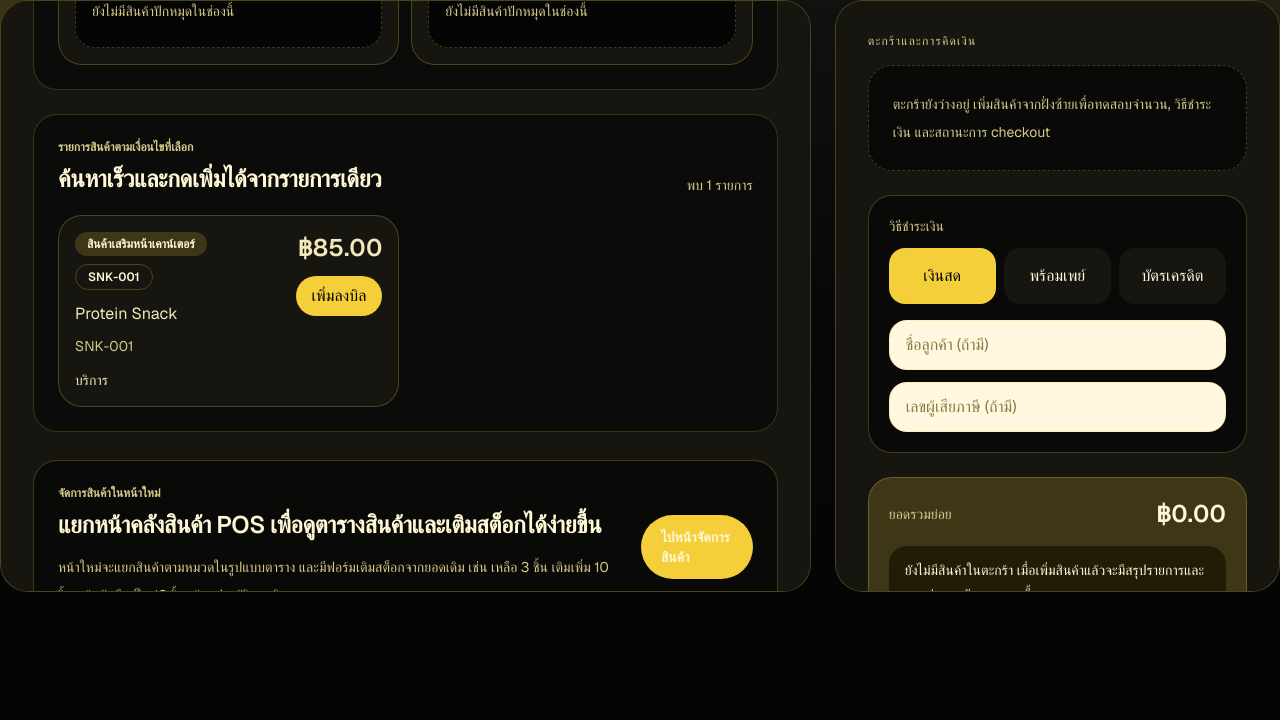
POS checkout refresh warning › keeps checkout success visible when post-checkout refresh fails
The image size is (1280, 720).
(page scrolled)
What coordinates should you click on to do the following:
click the button "เพิ่มลงบิล"
I would click on:
 (339, 296)
Its box is [296, 276, 382, 316].
(page scrolled)
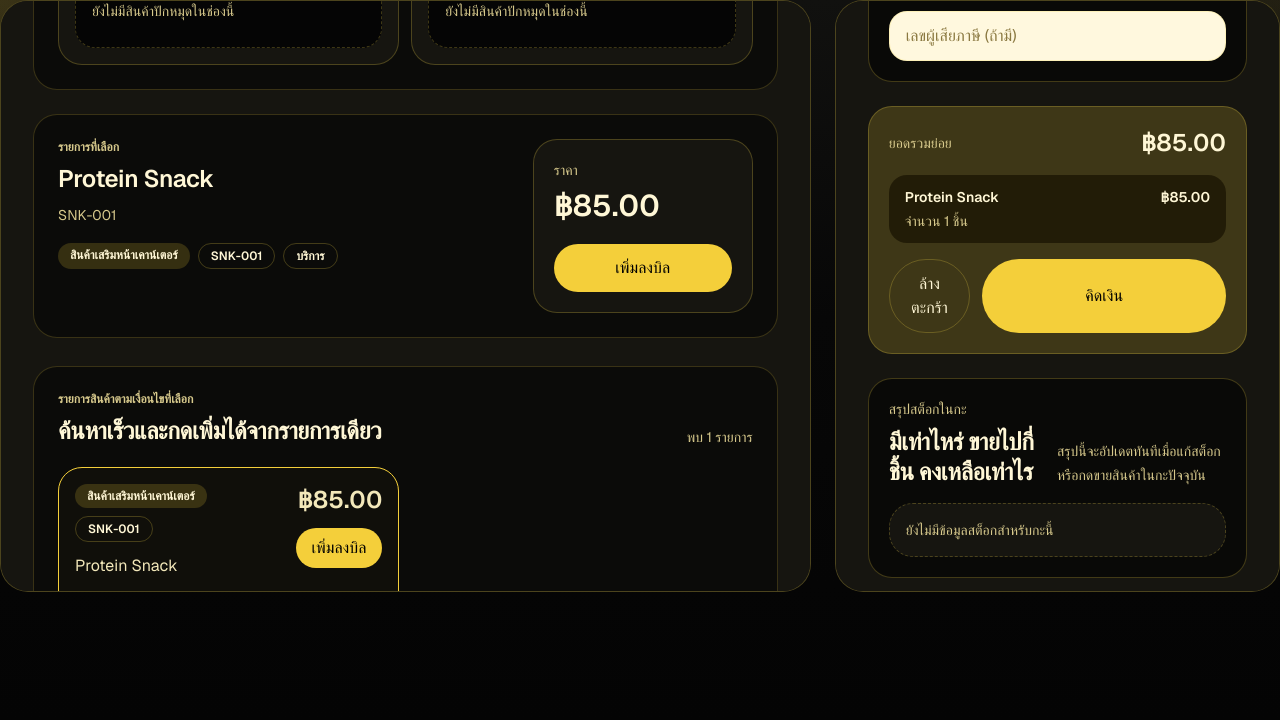
What coordinates should you click on to do the following:
click the button "คิดเงิน"
I would click on:
 (1104, 296)
Its box is [982, 259, 1226, 333].
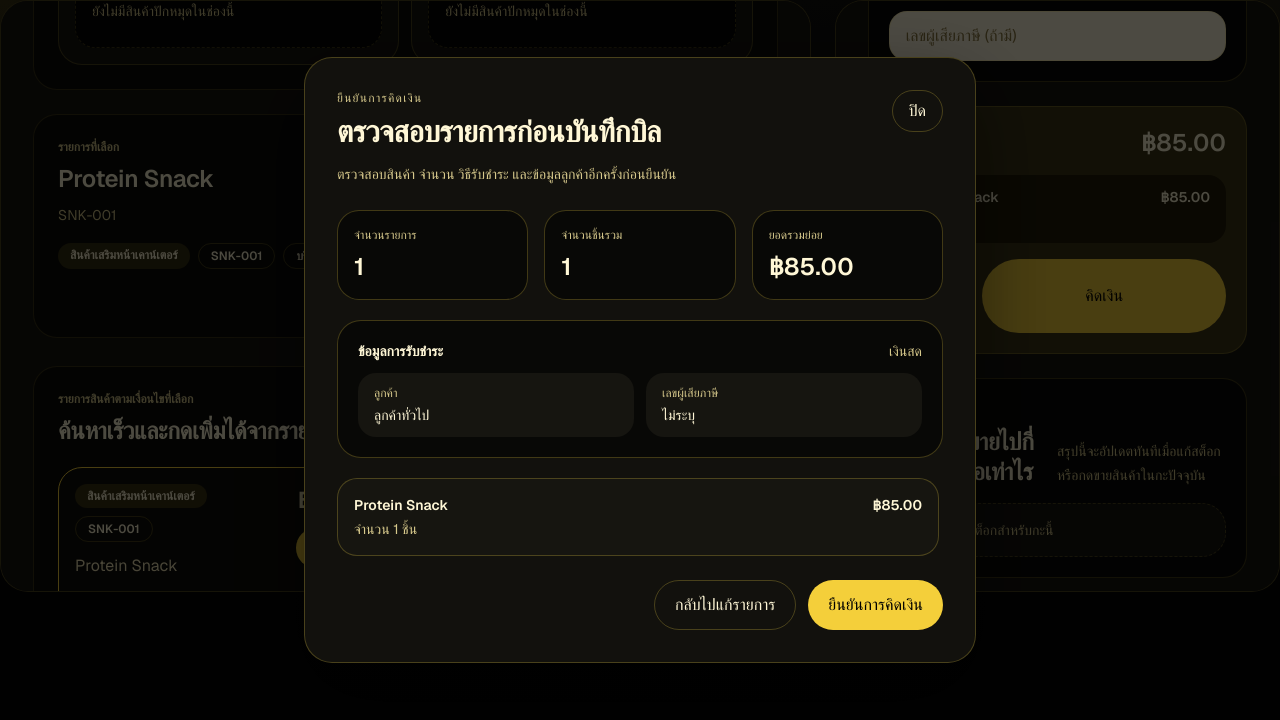
What coordinates should you click on to do the following:
click the button "ยืนยันการคิดเงิน"
I would click on:
 (876, 605)
Its box is [808, 580, 943, 630].
(page scrolled)
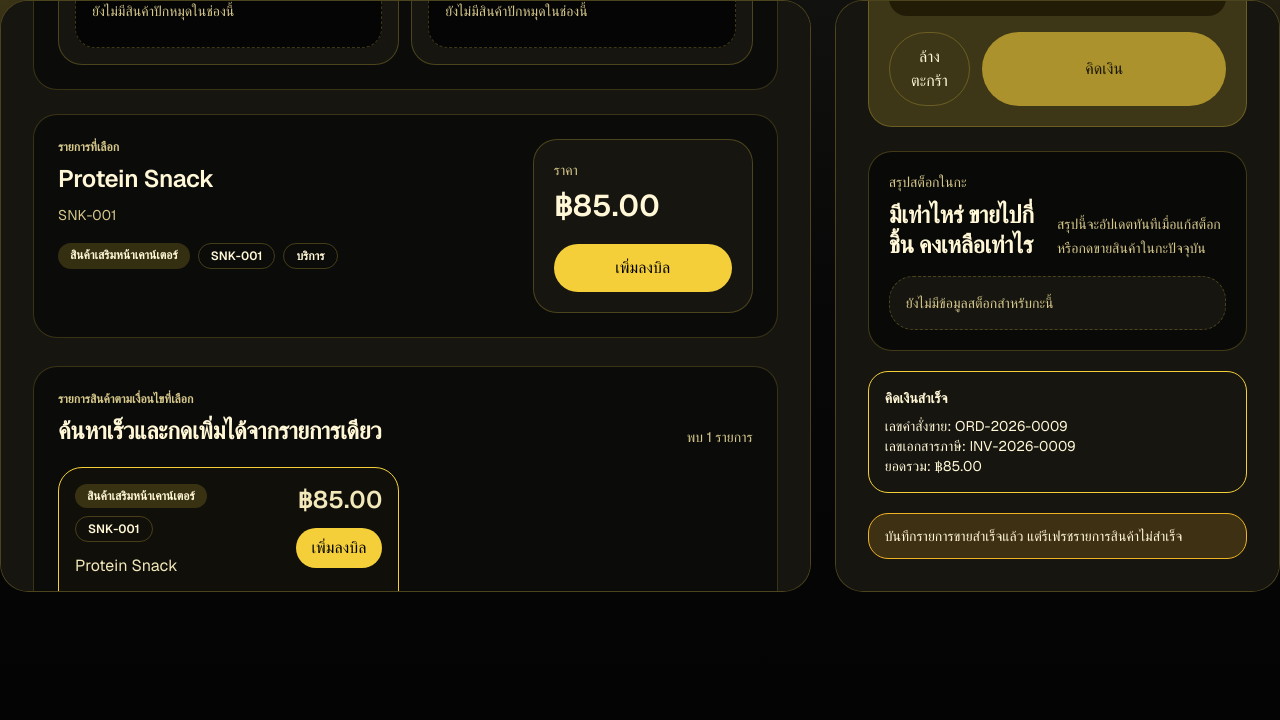
expect the text "คิดเงินสำเร็จ" is shown: met, box [885, 389, 948, 407]
expect the text "บันทึกรายการขายสำเร็จแล้ว แต่รีเฟรชรายการสินค้าไม่สำเร็จ" is shown: met, box [868, 513, 1247, 559]
